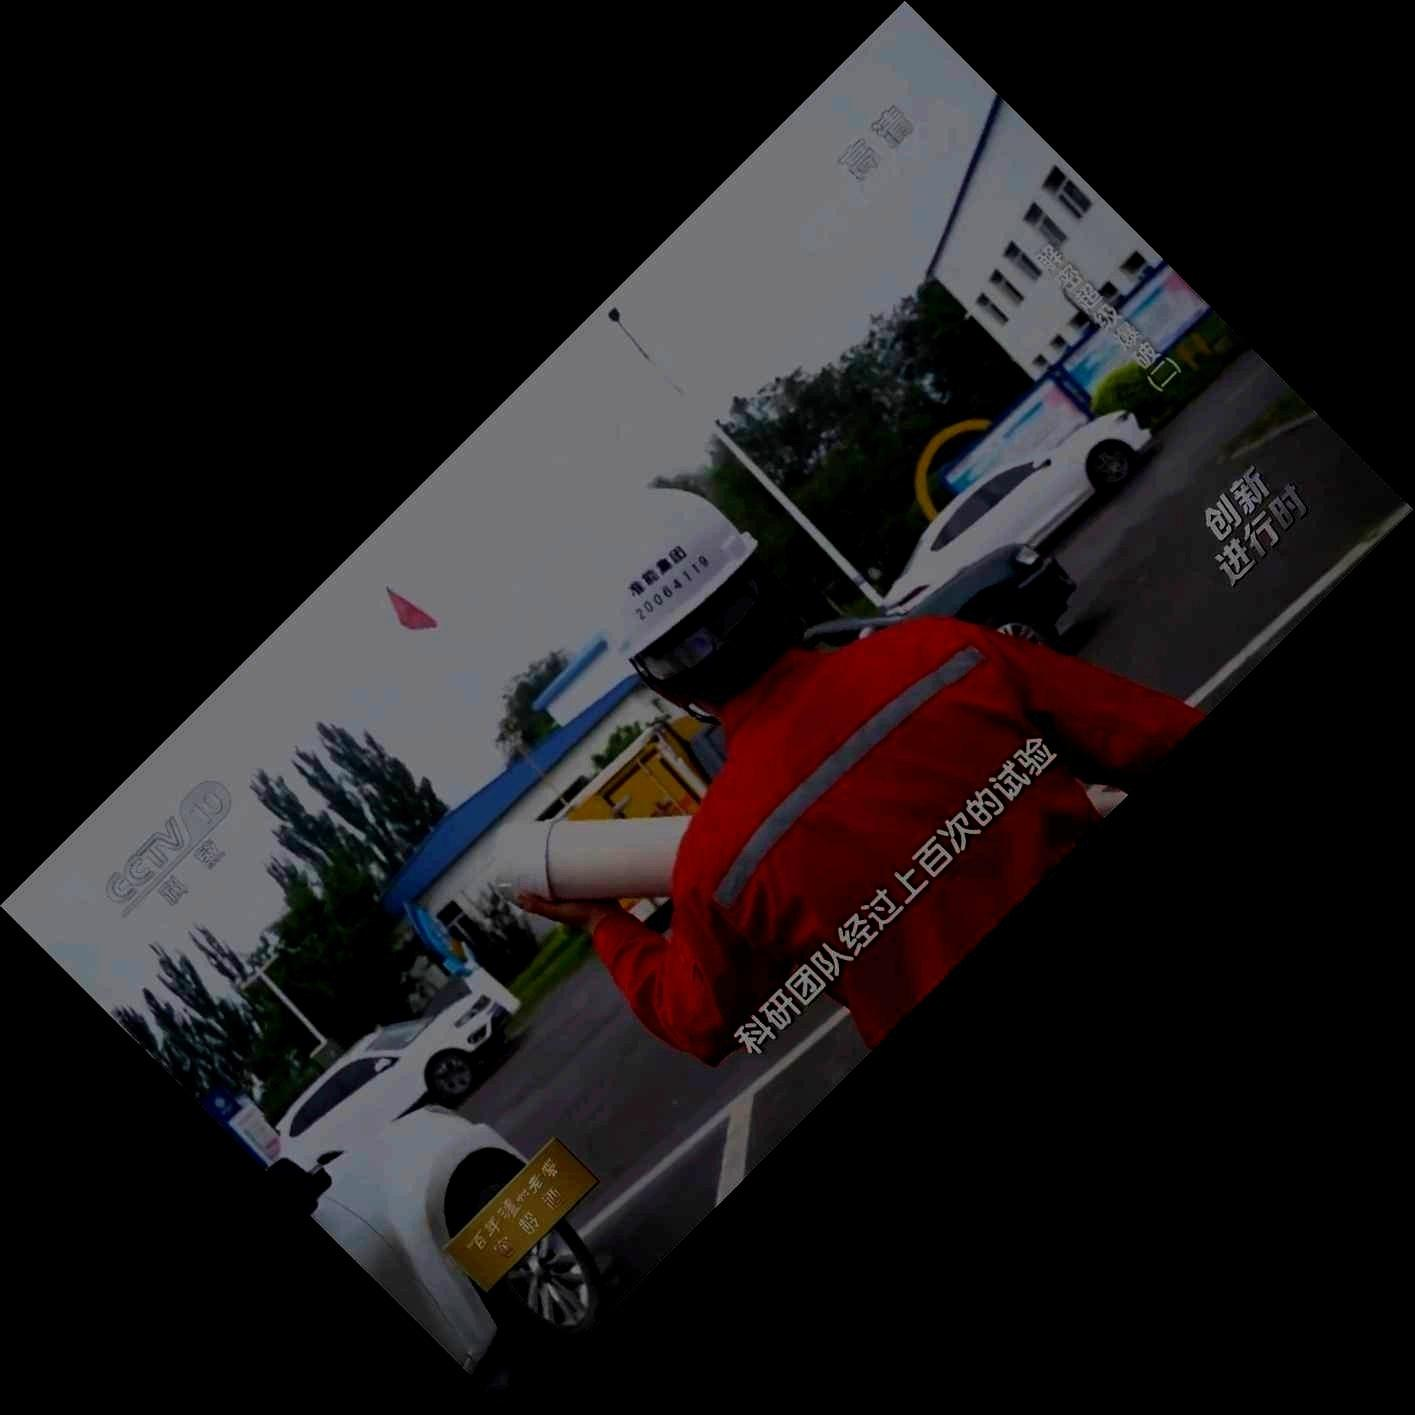helmet: (577, 487, 784, 711)
